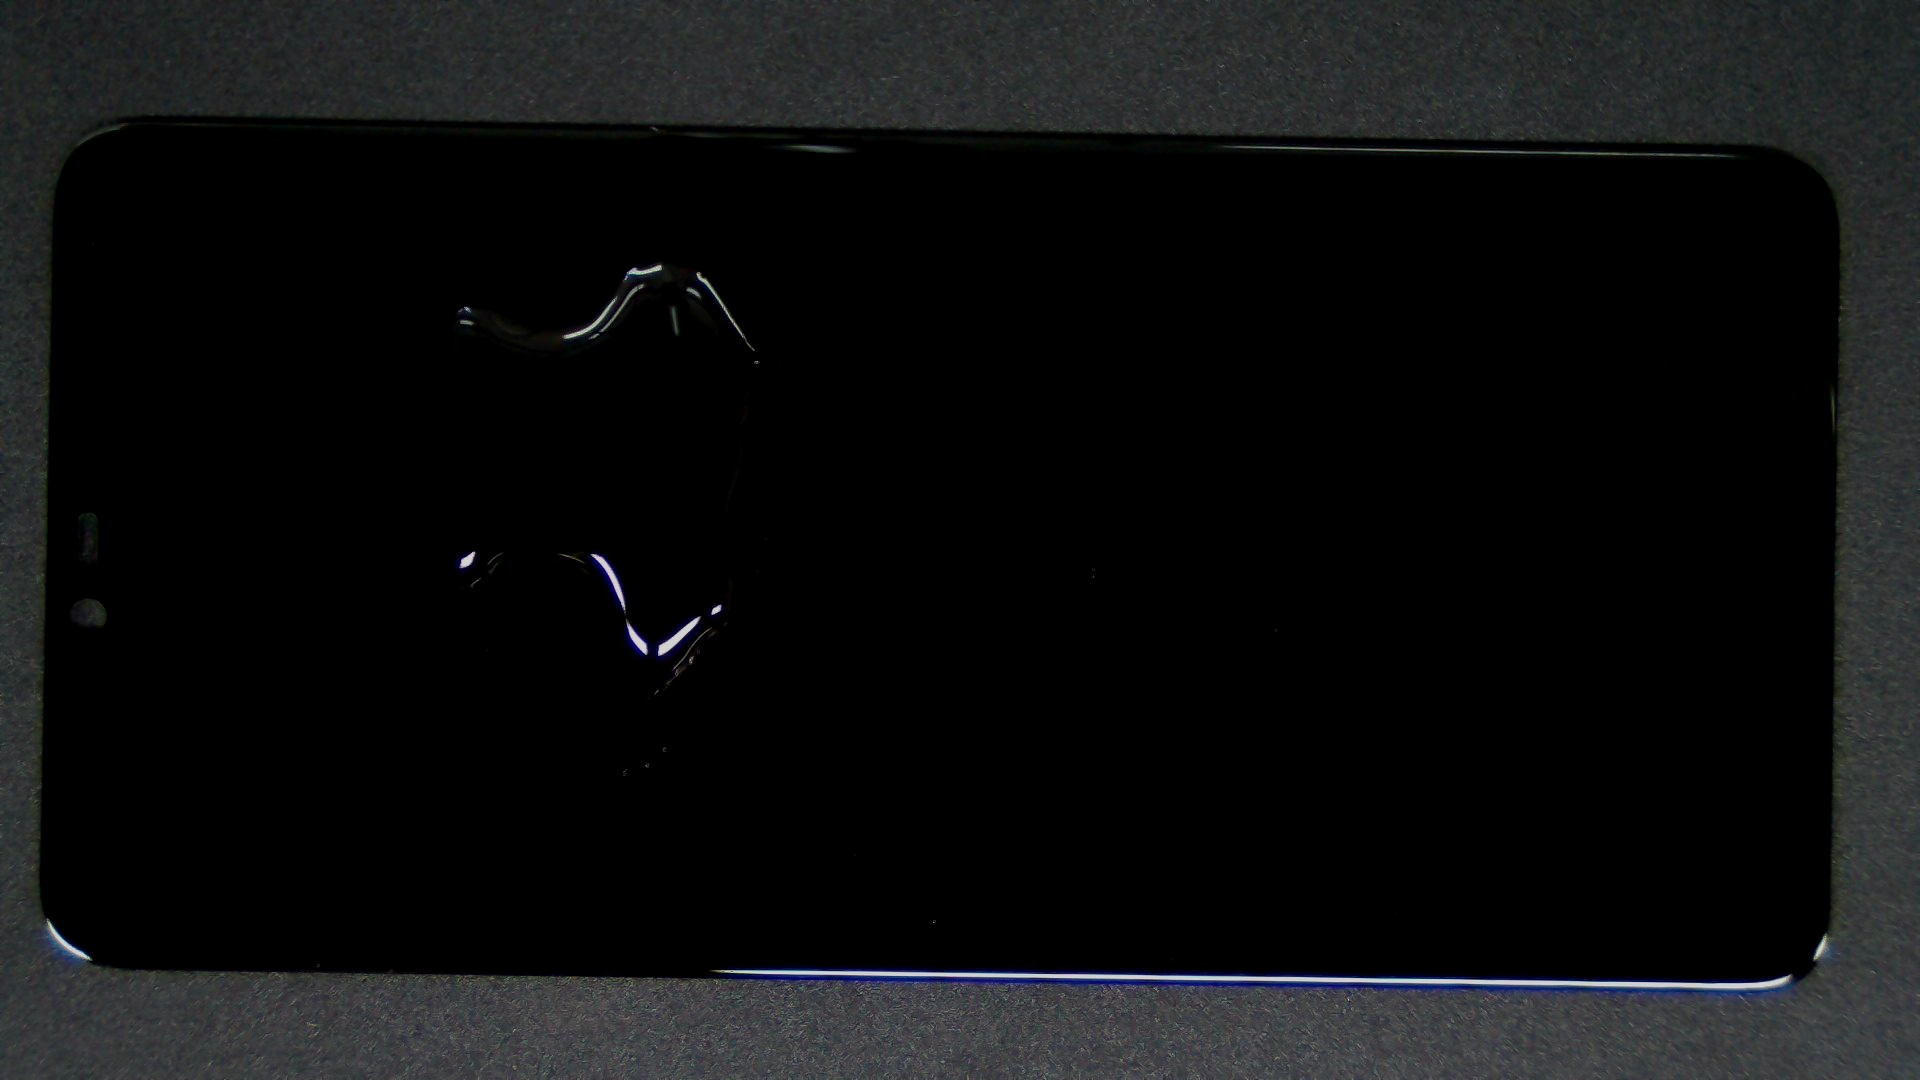oil: (331, 129, 989, 390)
